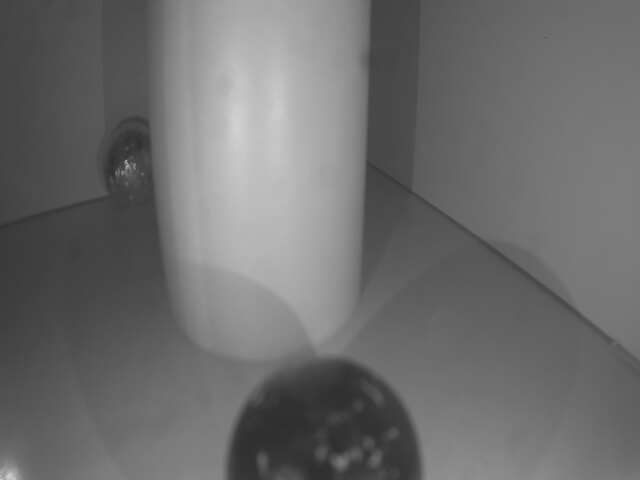Dead: (223, 357, 424, 480)
Live: (94, 119, 160, 208)
